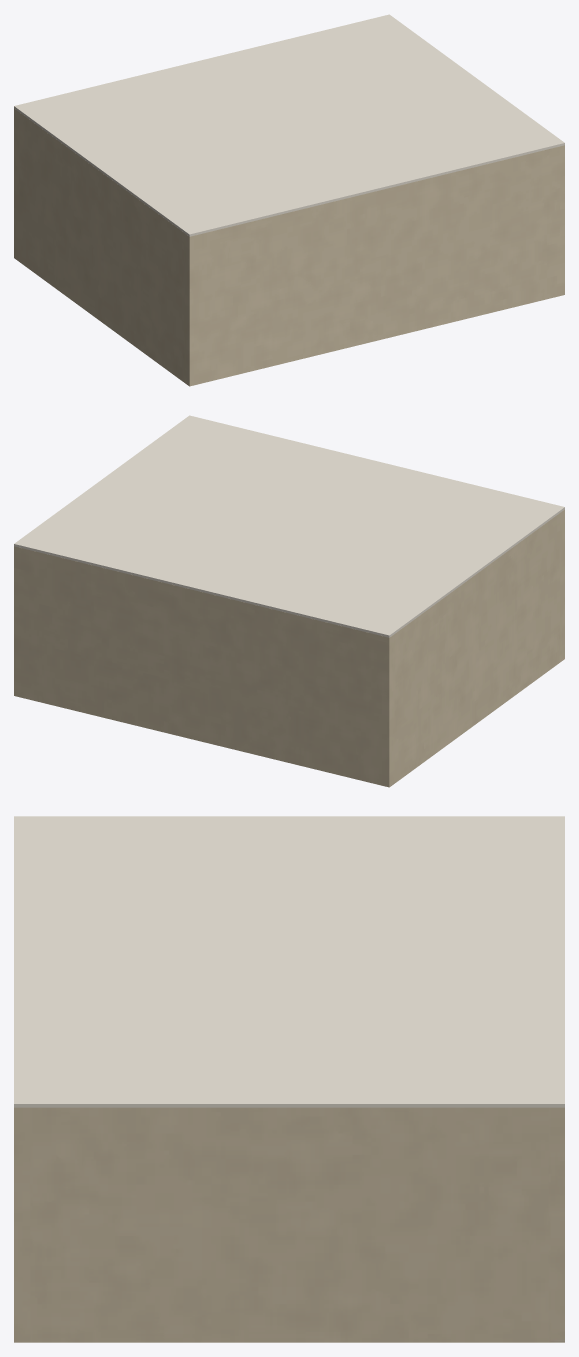
Rendered from kitchen-world.glb.
The picture shows the model from 3 angles, top to bottom: view 1: azimuth 30°, elevation 25°; view 2: azimuth 150°, elevation 25°; view 3: azimuth 270°, elevation 25°; orthographic projection. The views are drawn at different scales.
Parts seen in each view (by area): view 1: ENV_walls_plaster, ENV_ceiling; view 2: ENV_walls_plaster, ENV_ceiling; view 3: ENV_ceiling, ENV_walls_plaster.
Boxes of the visible parts, bbox=[...] form: ENV_walls_plaster: bbox=[14, 108, 564, 386]; ENV_ceiling: bbox=[14, 14, 564, 236]; ENV_walls_plaster: bbox=[14, 509, 564, 787]; ENV_ceiling: bbox=[14, 415, 564, 637]; ENV_ceiling: bbox=[14, 816, 564, 1107]; ENV_walls_plaster: bbox=[14, 1107, 564, 1342].
Bounding box in the file's own units: 8.4 × 3.27 × 6.8.
Materials: 134 (27 with a texture image).
